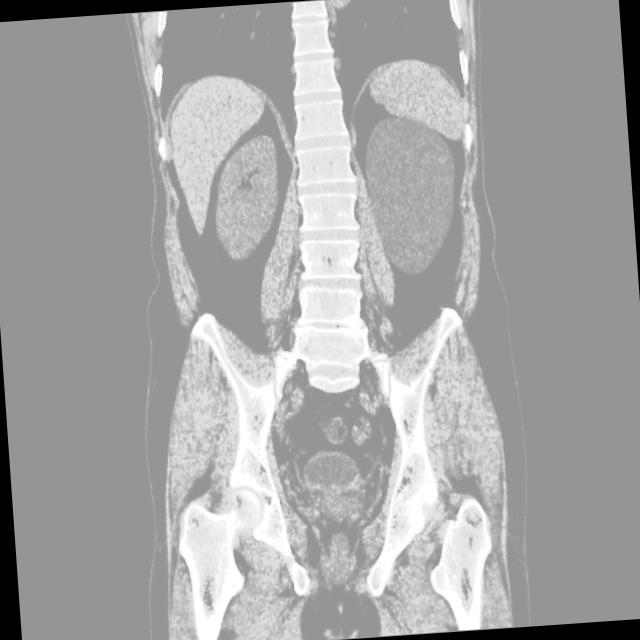cysts: (111, 0, 530, 640)
